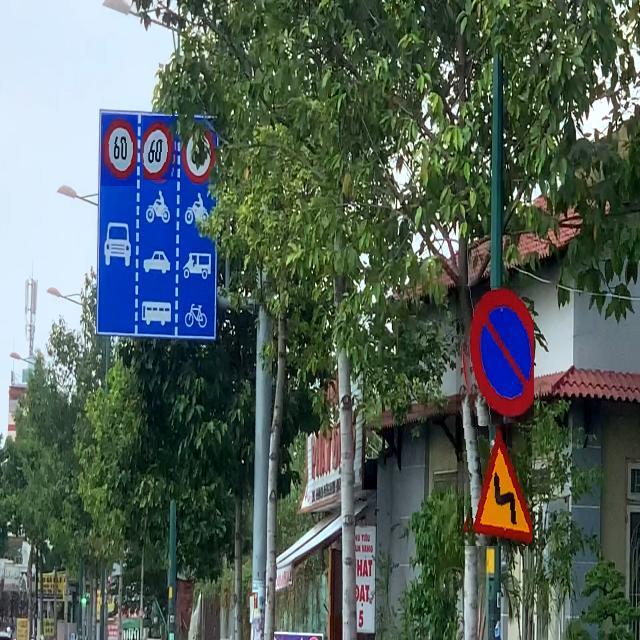P-127: (101, 115, 137, 186), (143, 116, 179, 180)
P-131a: (456, 286, 534, 427)
W-202a: (457, 421, 532, 546)
